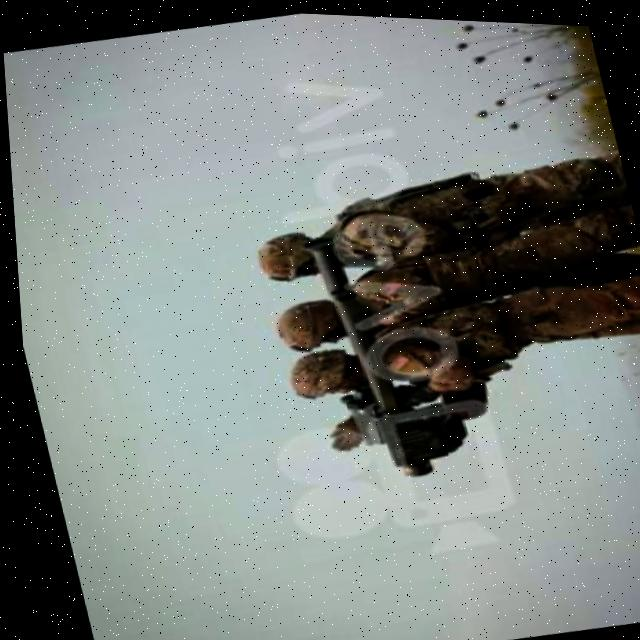rocket: (297, 220, 427, 482)
